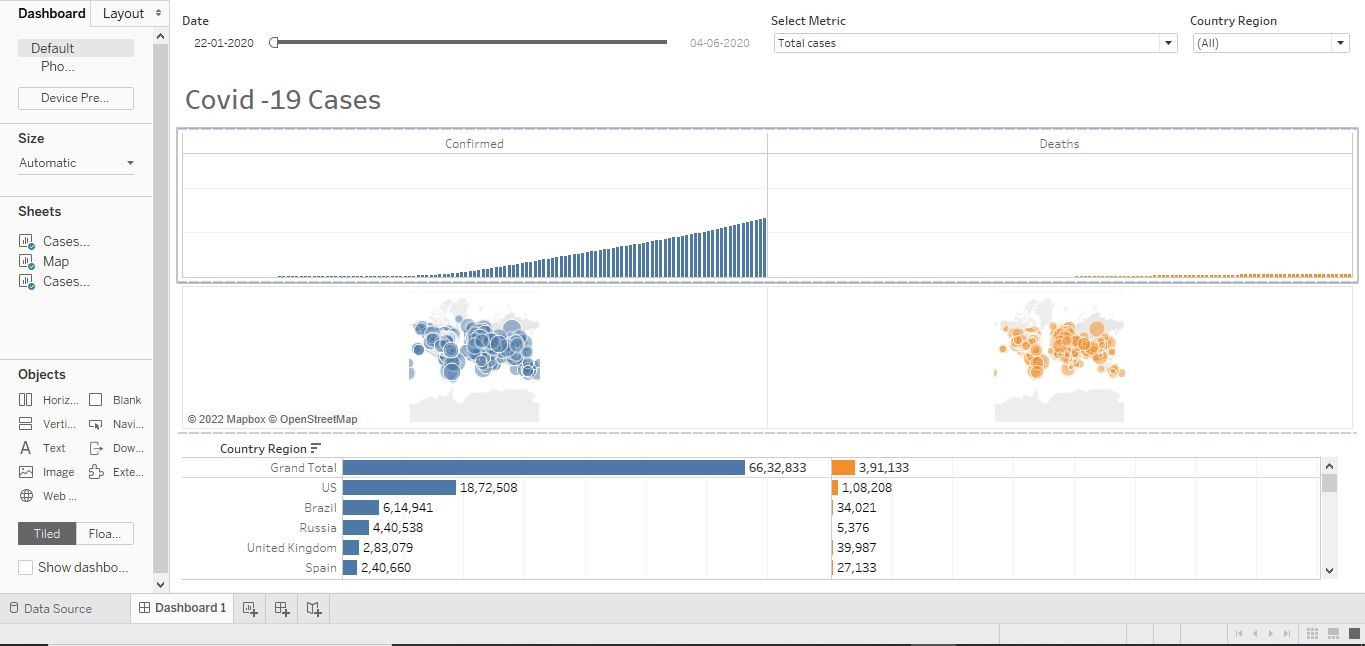

What the dashboard file says about the page in this screenshot:
{"tool":"tableau","page":{"name":"Dashboard 1","canvas":[1000,1000],"units":"permille","ordinal":0},"visuals":[{"type":"worksheet","box":[0,0,1000,1000]},{"type":"worksheet","box":[7.2,13.5,492.9,99.7]},{"type":"worksheet","title":"CasesByDay","mark":"Bar","rows":["Calculation_475974232581558273"],"cols":["Case_Type","Date"],"param":"[federated.07nrlnj0et03v215nb6x706gv0xb].[none:Date:qk]","box":[7.2,13.5,492.9,86.2]},{"type":"worksheet","param":"[Parameters].[Parameter 1]","box":[500,13.5,349.9,99.7]},{"type":"worksheet","title":"CasesByDay","mark":"Bar","rows":["Calculation_475974232581558273"],"cols":["Case_Type","Date"],"param":"[federated.07nrlnj0et03v215nb6x706gv0xb].[none:Country_Region:nk]","box":[849.9,13.5,143,99.7]},{"type":"worksheet","param":"horz","box":[7.2,113.2,985.7,873.3]},{"type":"worksheet","box":[7.2,113.2,985.7,873.3]},{"type":"worksheet","box":[7.2,113.2,985.7,104.6]},{"type":"worksheet","title":"CasesByDay","mark":"Bar","rows":["Calculation_475974232581558273"],"cols":["Case_Type","Date"],"box":[7.2,217.8,985.7,257.7]},{"type":"worksheet","title":"Map","mark":"Automatic","rows":["Lat"],"cols":["Case_Type","Long"],"box":[7.2,475.5,985.7,255.5]},{"type":"worksheet","title":"CasesByCountry","mark":"Automatic","rows":["Country_Region"],"cols":["Case_Type","Calculation_475974232581558273"],"box":[7.2,731,985.7,255.5]}]}

Visuals, with their boxes on the dashboard's canvas, which has no fixed pixel size, in thousandths of its width and height (x1, y1, x2, y2). These are canvas units, not pixel positions in the 1365x646 screenshot, which may show the page scaled, cropped or inside an application window:
worksheet: <bbox>0, 0, 1000, 1000</bbox>
worksheet: <bbox>7, 14, 500, 113</bbox>
"CasesByDay" worksheet (Bar marks): <bbox>7, 14, 500, 100</bbox>
worksheet: <bbox>500, 14, 850, 113</bbox>
"CasesByDay" worksheet (Bar marks): <bbox>850, 14, 993, 113</bbox>
worksheet: <bbox>7, 113, 993, 986</bbox>
worksheet: <bbox>7, 113, 993, 986</bbox>
worksheet: <bbox>7, 113, 993, 218</bbox>
"CasesByDay" worksheet (Bar marks): <bbox>7, 218, 993, 476</bbox>
"Map" worksheet: <bbox>7, 476, 993, 731</bbox>
"CasesByCountry" worksheet: <bbox>7, 731, 993, 986</bbox>
